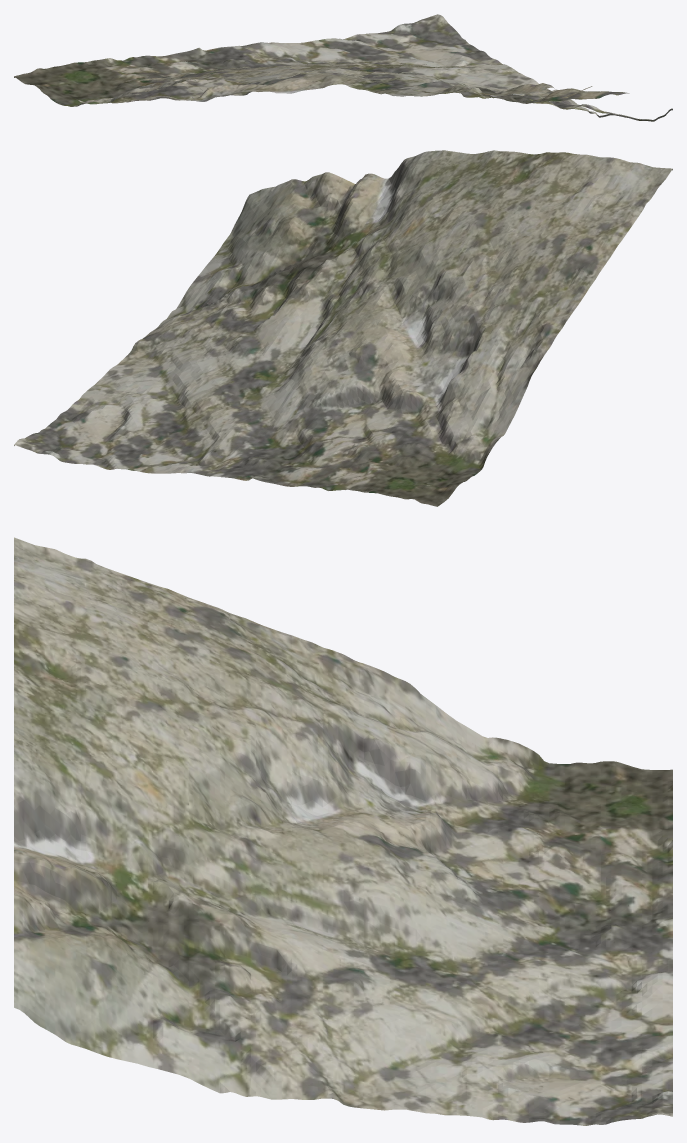
The picture shows the model from 3 angles, top to bottom: view 1: azimuth 30°, elevation 25°; view 2: azimuth 150°, elevation 25°; view 3: azimuth 270°, elevation 25°; orthographic projection. The views are drawn at different scales.
Bounding box in the file's own units: 250 × 122 × 241.
Materials: 1 (1 with a texture image).
